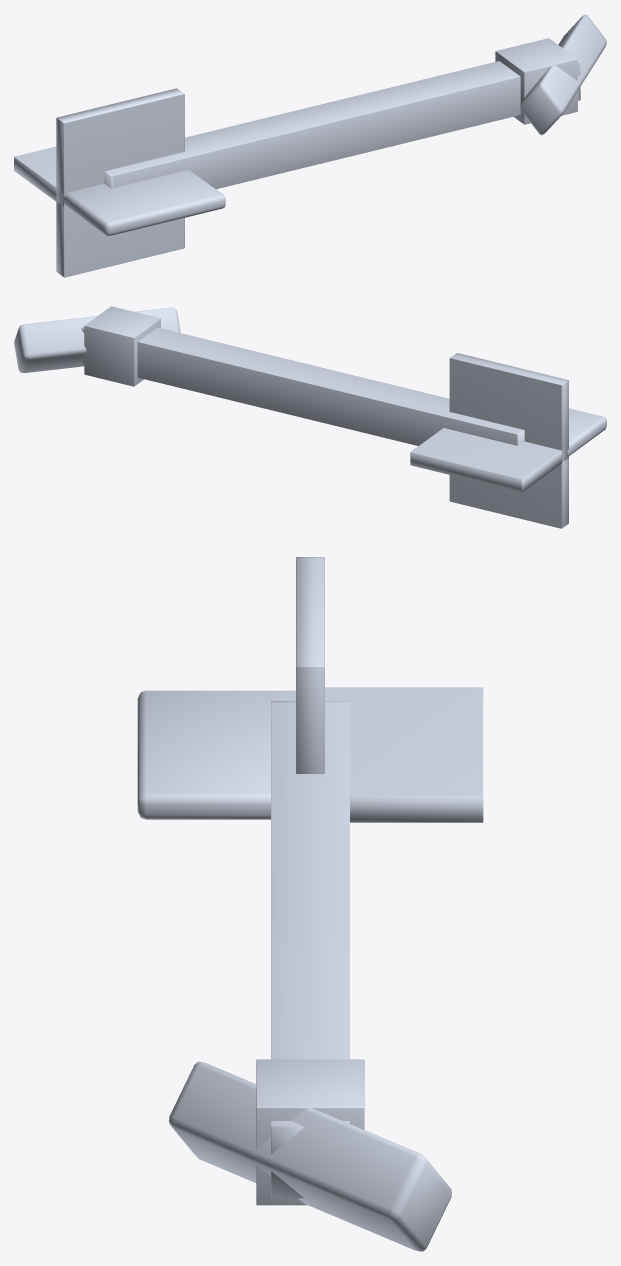
File: Idol_Steel_Spike.glb
3 renders of one model, top to bottom at view 1: azimuth 30°, elevation 25°; view 2: azimuth 150°, elevation 25°; view 3: azimuth 270°, elevation 25°, orthographic. The views are drawn at different scales.
Visible parts, largest first — view 1: Idol_Steel_Spike; view 2: Idol_Steel_Spike; view 3: Idol_Steel_Spike.
Boxes of the visible parts, x1,y1,x2,y2 form: Idol_Steel_Spike: (14, 14, 606, 277); Idol_Steel_Spike: (14, 306, 606, 528); Idol_Steel_Spike: (137, 557, 483, 1251).
Bounding box in the file's own units: 1.7 × 0.44 × 0.48.
